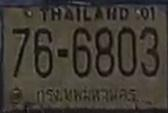0: (117, 26, 136, 76)
3: (139, 26, 159, 76)
6: (72, 26, 91, 76), (34, 27, 52, 77)
7: (12, 27, 29, 77)
8: (94, 26, 114, 76)
BKK: (31, 85, 142, 106)
